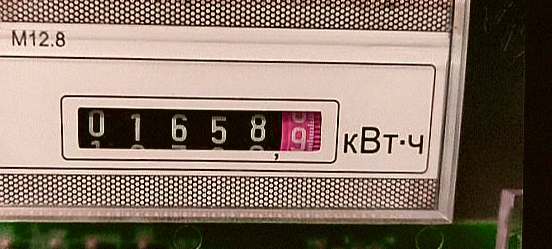0: (85, 106, 107, 138)
1: (129, 111, 143, 142)
5: (209, 113, 229, 145)
6: (169, 111, 190, 143)
8: (248, 111, 268, 144)
9: (288, 124, 307, 150)
screen: (52, 85, 344, 169)
